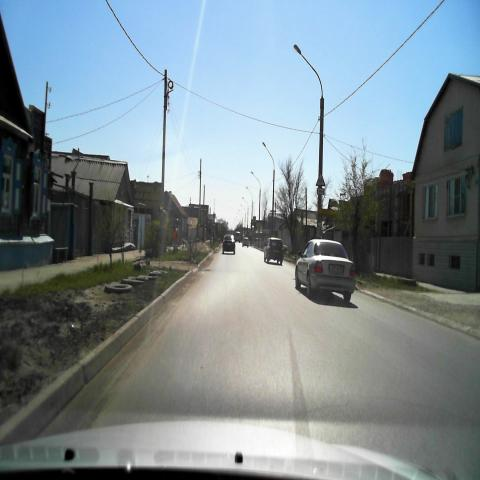1_23: (316, 172, 326, 187)
